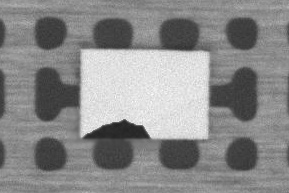DIE_BROKEN: (84, 116, 152, 139)
